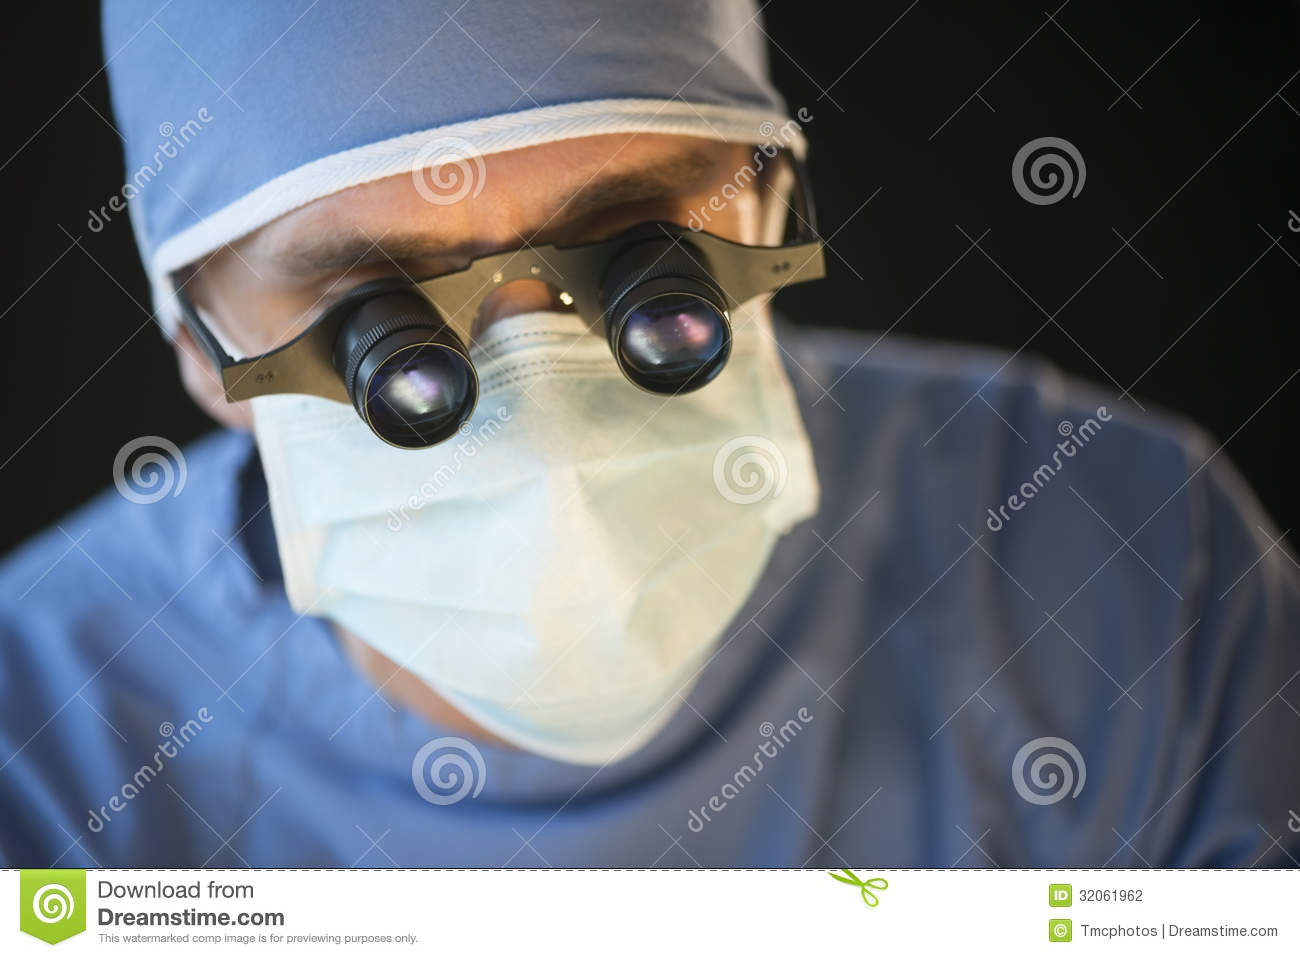mask: (233, 338, 842, 705)
